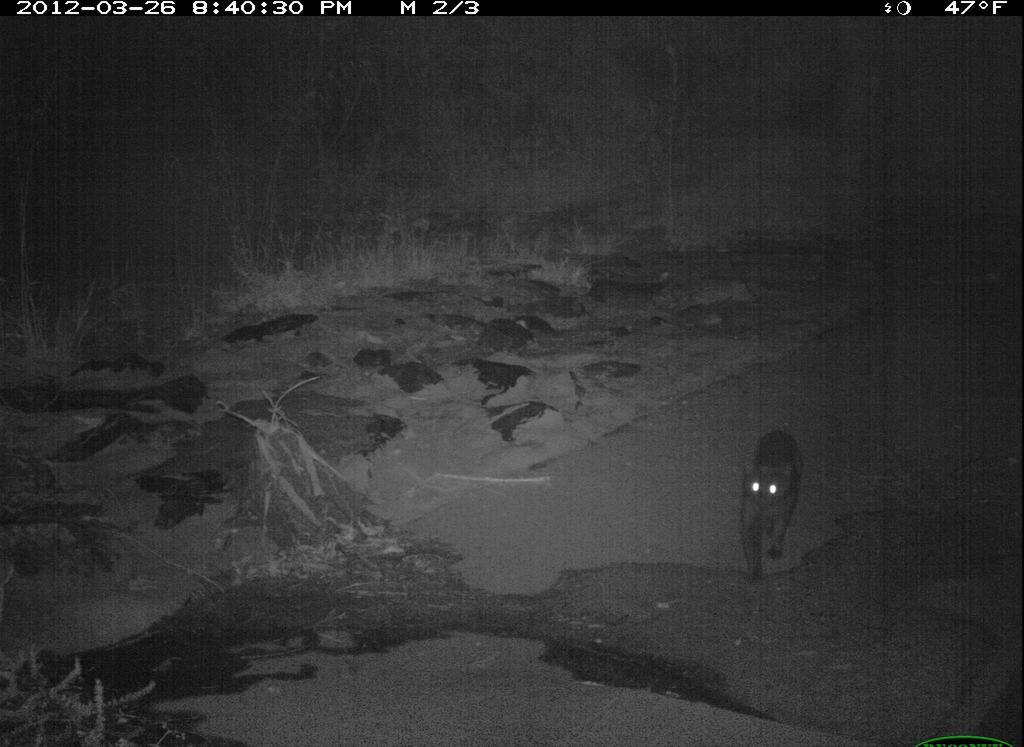cat: (733, 422, 812, 589)
